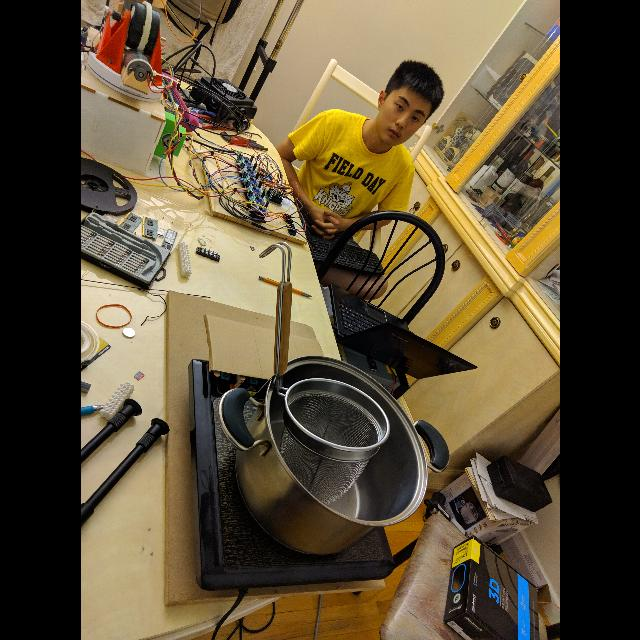Handle: (258, 241, 290, 383)
Strainer: (286, 378, 396, 456)
